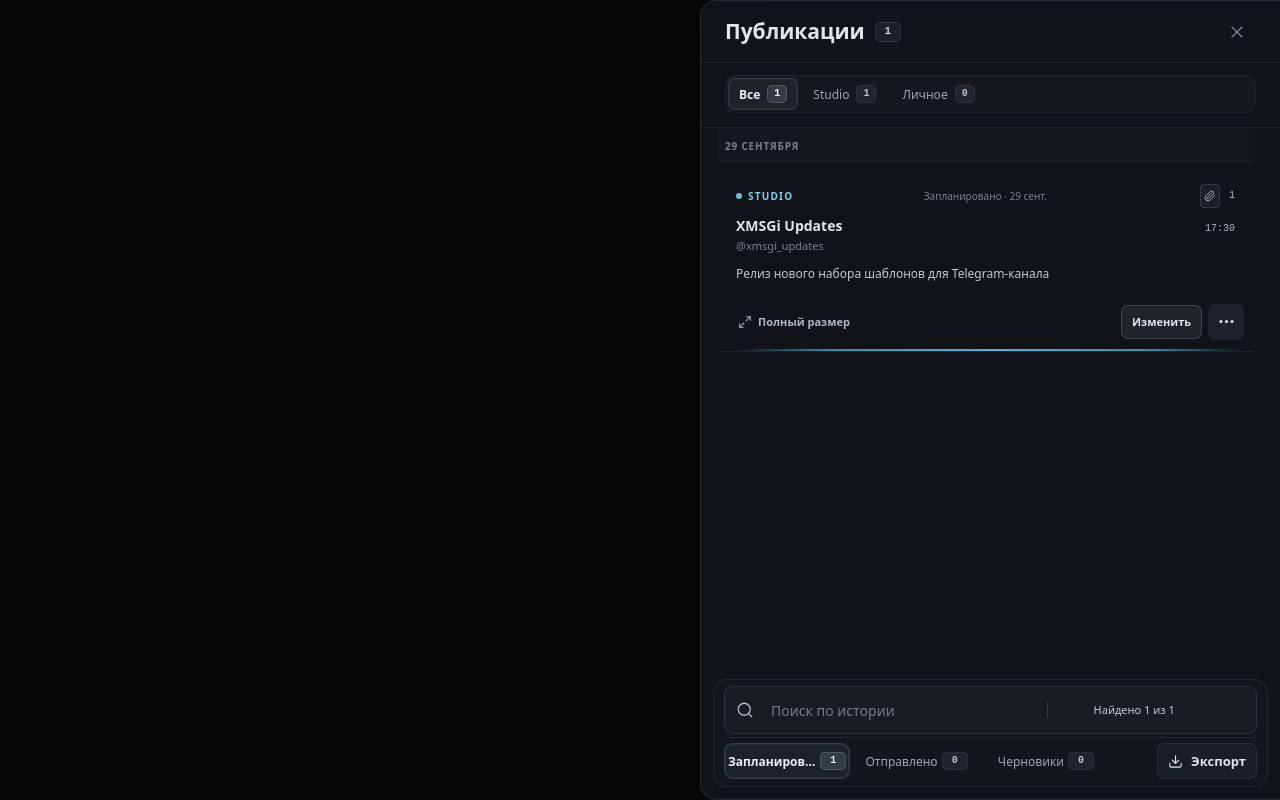
Test case: HistoryDrawer search › reserves the clear-button slot while the search is empty
Type "x" into the field labelled "Поиск по истории" at (888, 710), box top-left (771, 687), bottom-right (1006, 733)
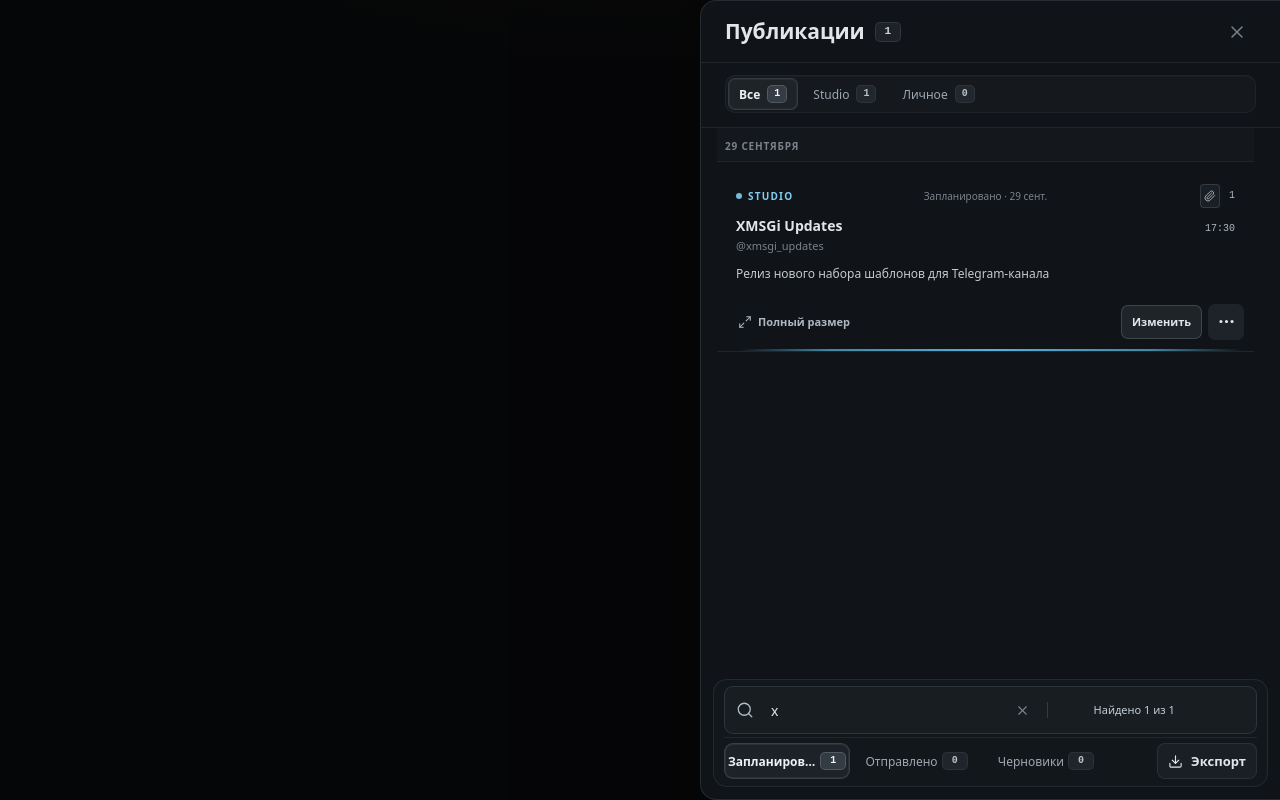
Expected: the button with class "history-search-clear" is enabled, top-left (1010, 697), bottom-right (1036, 723)
